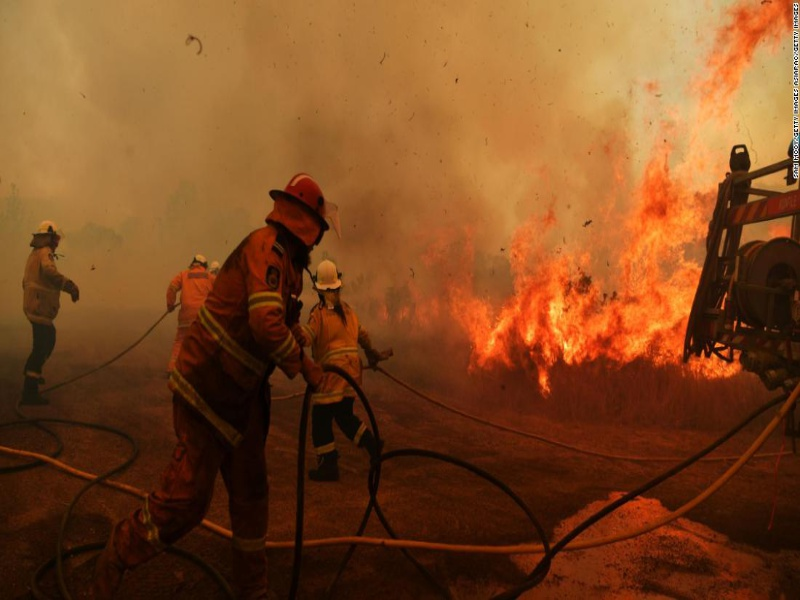fire: (476, 215, 680, 357), (441, 257, 473, 333)
